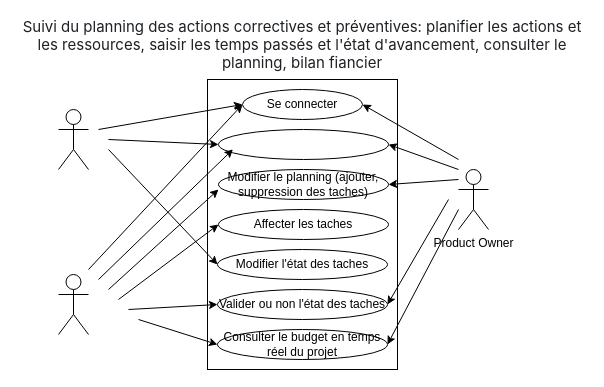
Image size: 604x387. Some labels were removed from this diagram. Here are the shapes that lost their labels. From the top down, the centre of each, then its label:
[73,139]: Dev
[303,144]: Visualiser l'état du projet
[73,304]: Project Manager
